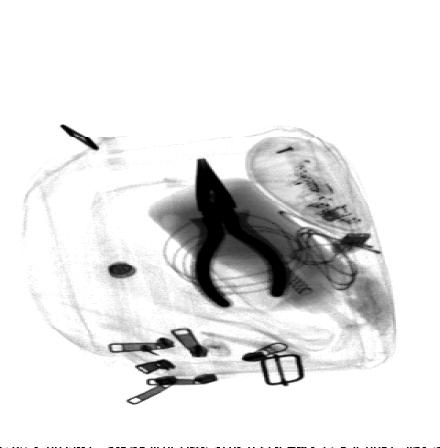Pliers: (187, 157, 292, 309)
